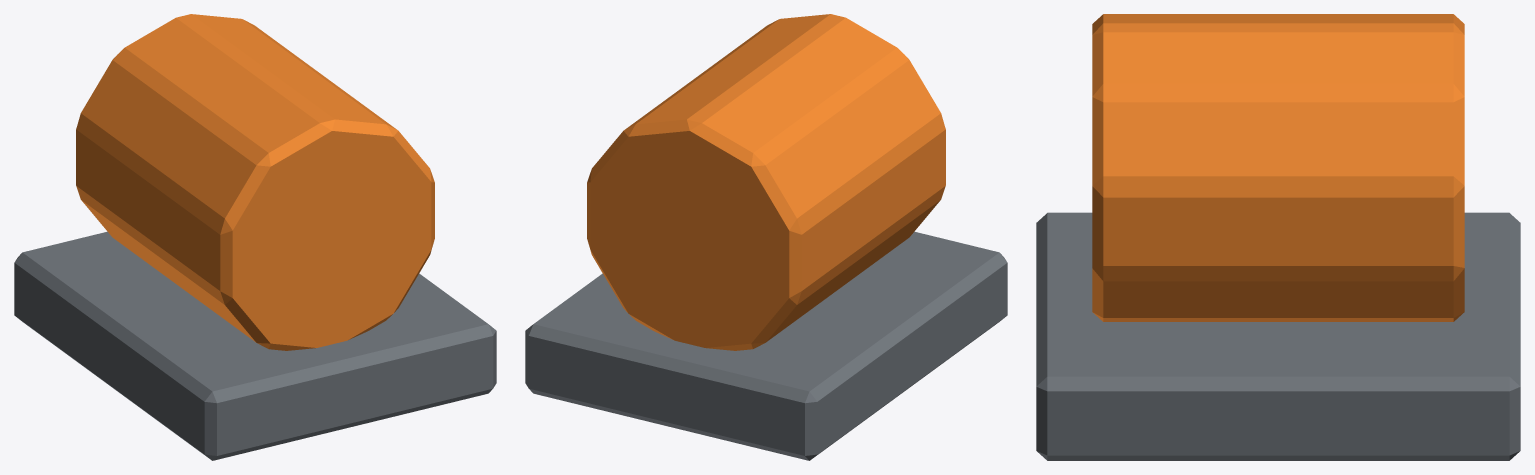
File: winch.glb
3 renders of one model, left to right at view 1: azimuth 30°, elevation 25°; view 2: azimuth 150°, elevation 25°; view 3: azimuth 270°, elevation 25°, orthographic. The views are drawn at different scales.
Parts seen in each view (by area): view 1: winch; view 2: winch; view 3: winch.
Boxes of the visible parts, x1,y1,x2,y2 form: winch: [14, 14, 496, 460]; winch: [525, 14, 1007, 460]; winch: [1036, 14, 1520, 460].
Bounding box in the file's own units: 0.22 × 0.2081 × 0.26.
